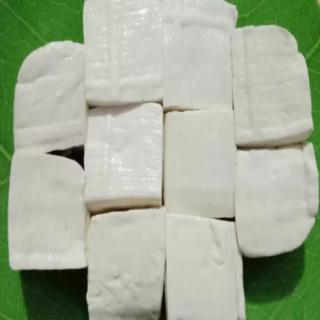Tahu: (8, 40, 91, 284), (85, 94, 167, 214), (163, 104, 241, 222)
